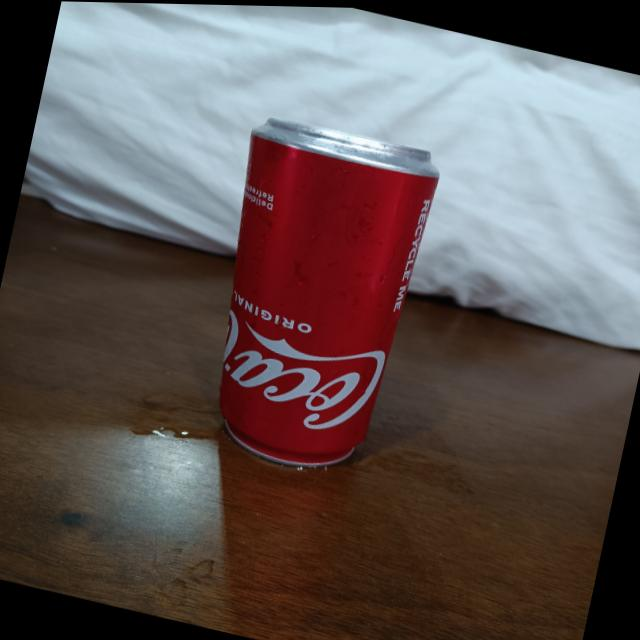coke: (192, 106, 443, 482)
